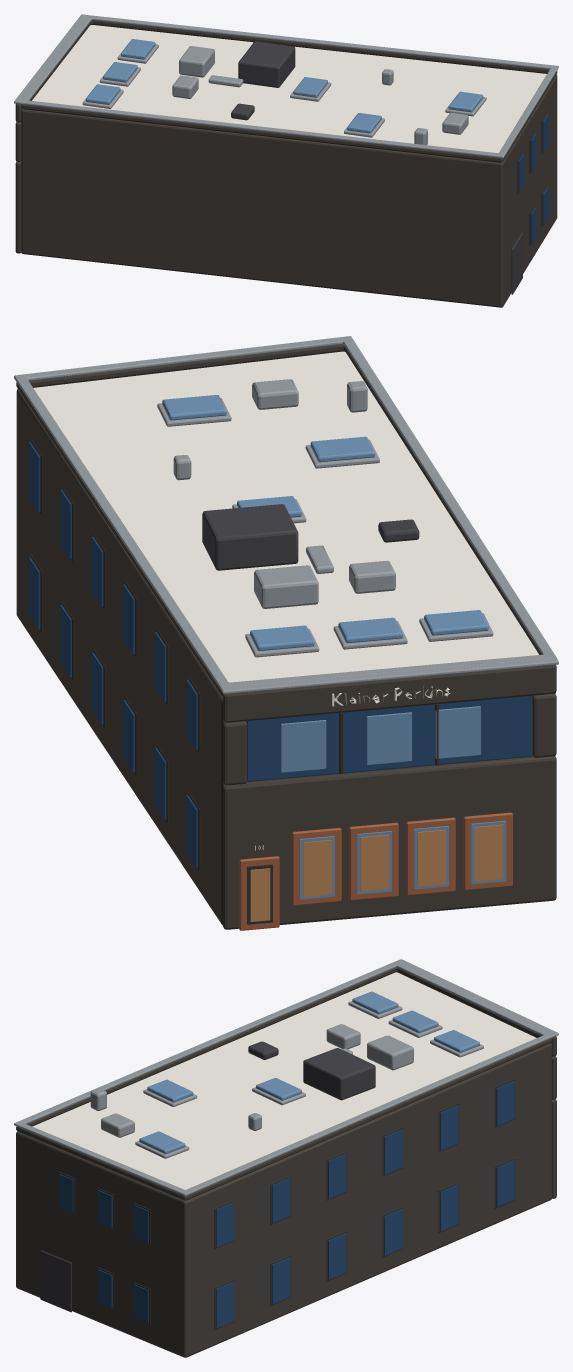
The model's file is 101-south-park.optimized.glb.
3 views of the same model, one above another, from view 1: azimuth 30°, elevation 25°; view 2: azimuth 150°, elevation 25°; view 3: azimuth 270°, elevation 25° (orthographic). The views are drawn at different scales.
Visible parts, largest first — view 1: body, grp_Toy_steel, grp_Toy_charcoal, grp_Toy_glassl, grp_Toy_roofd, grp_Toy_glass, grp_Toy_ink; view 2: body, grp_Toy_charcoal, grp_Toy_steel, grp_Toy_glass, grp_Toy_glassl, grp_Toy_rust, grp_Toy_rust_Glow, grp_Toy_glass_Glow, grp_Toy_roofd, grp_Toy_ink; view 3: body, grp_Toy_steel, grp_Toy_glass, grp_Toy_charcoal, grp_Toy_roofd, grp_Toy_glassl, grp_Toy_ink.
Part boxes in pixels (x1,y1,x2,y2): body: [21, 25, 557, 307]; grp_Toy_steel: [14, 14, 558, 158]; grp_Toy_charcoal: [15, 20, 557, 253]; grp_Toy_glassl: [86, 39, 483, 133]; grp_Toy_roofd: [231, 41, 522, 294]; grp_Toy_glass: [518, 114, 548, 244]; grp_Toy_ink: [517, 112, 547, 246]; body: [16, 351, 538, 925]; grp_Toy_charcoal: [16, 344, 556, 929]; grp_Toy_steel: [14, 336, 558, 694]; grp_Toy_glass: [29, 442, 531, 867]; grp_Toy_glassl: [162, 395, 506, 899]; grp_Toy_rust: [239, 812, 512, 930]; grp_Toy_rust_Glow: [250, 824, 503, 921]; grp_Toy_glass_Glow: [281, 706, 480, 772]; grp_Toy_roofd: [202, 504, 419, 570]; grp_Toy_ink: [30, 438, 439, 924]; body: [16, 972, 551, 1357]; grp_Toy_steel: [14, 959, 558, 1195]; grp_Toy_glass: [58, 1081, 514, 1328]; grp_Toy_charcoal: [16, 967, 556, 1200]; grp_Toy_roofd: [40, 1041, 375, 1312]; grp_Toy_glassl: [139, 991, 479, 1154]; grp_Toy_ink: [58, 1078, 514, 1330].
Size of the model in its own units: 30.53 by 10.9 by 29.87.
